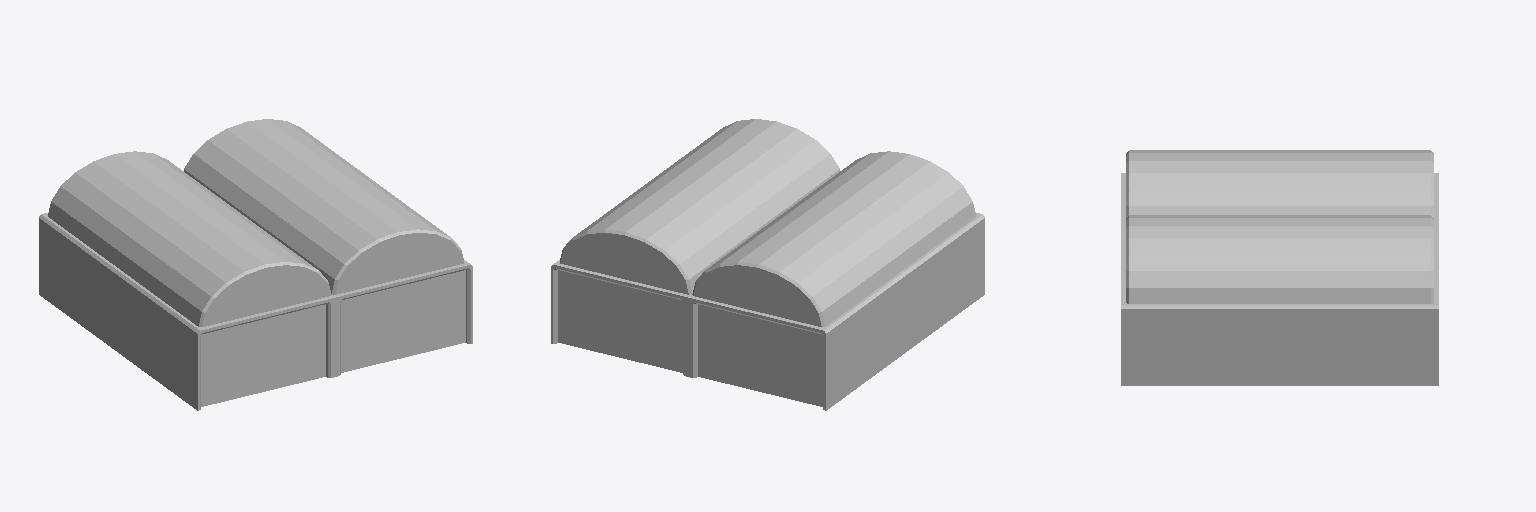
File: Area51_tower_area51base_d0.obj
The picture shows the model from 3 angles: view 1: azimuth 30°, elevation 25°; view 2: azimuth 150°, elevation 25°; view 3: azimuth 270°, elevation 25°; orthographic projection.
Visible parts, largest first — view 1: headusOBJexport; view 2: headusOBJexport; view 3: headusOBJexport.
Part boxes in pixels (x1,y1,x2,y2): headusOBJexport: (39, 119, 472, 410); headusOBJexport: (551, 119, 984, 410); headusOBJexport: (1121, 150, 1438, 385).
Bounding box in the file's own units: 7.26 × 3.17 × 7.25.